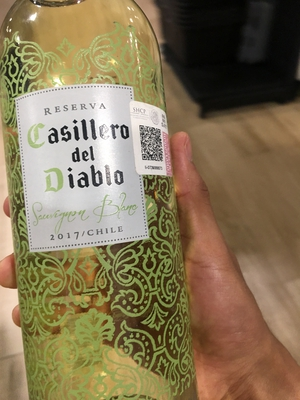casillero del diablo sauvignon blanc: (3, 4, 199, 400)
